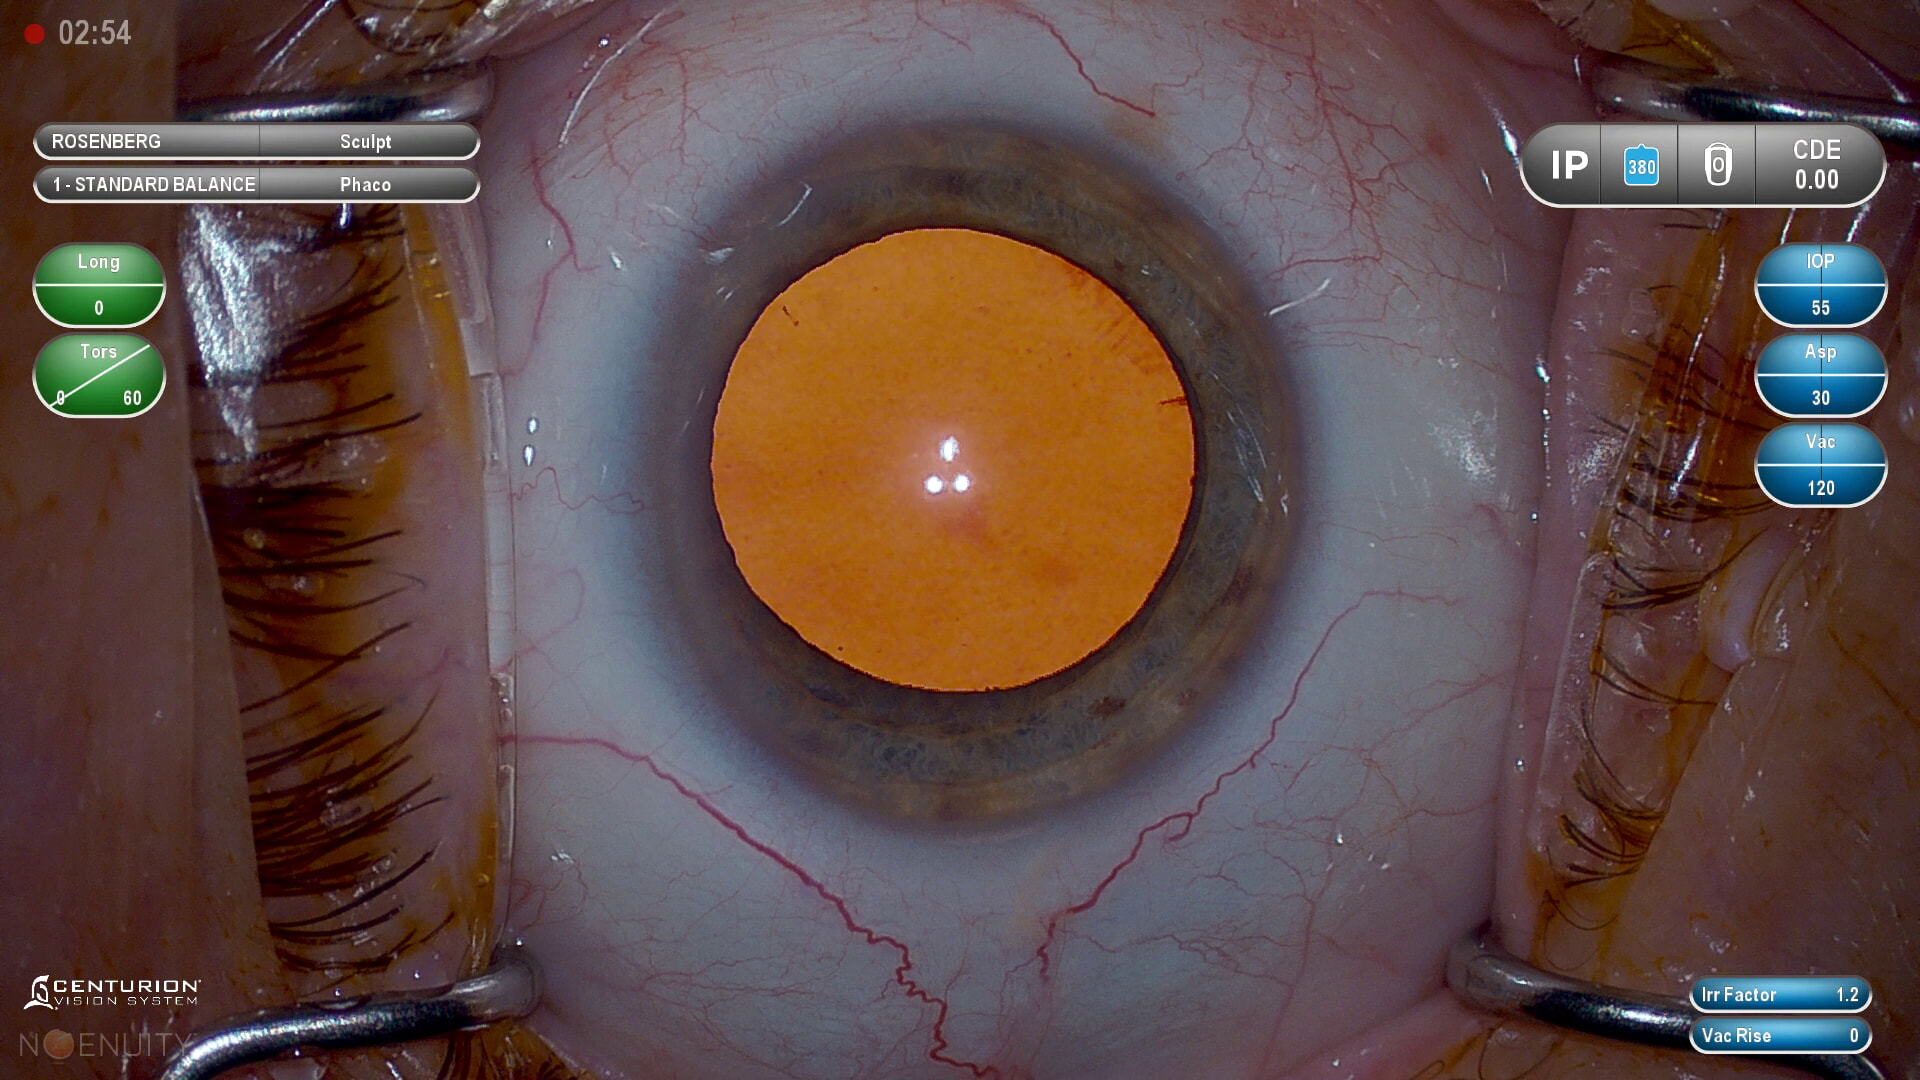iris: (642, 128, 1316, 809)
pupil: (706, 226, 1199, 695)
